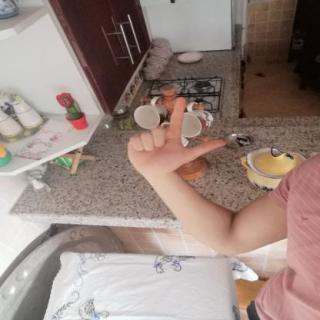LAAM: (120, 92, 232, 180)
